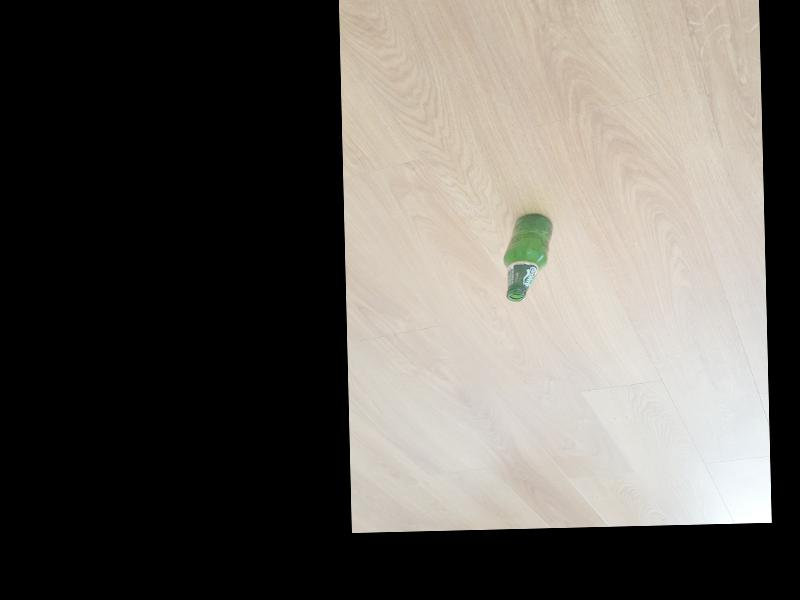Beer: (502, 212, 555, 303)
